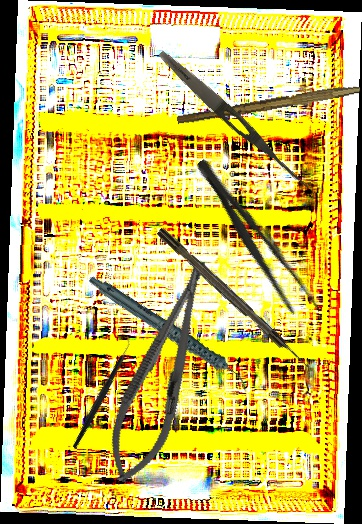Chopper: (40, 333, 162, 451)
Dressing Forceps: (186, 152, 325, 327), (154, 46, 314, 193)
Handpiece: (87, 247, 252, 419)
Hook Surgical: (156, 225, 311, 372)
Needle Holder: (94, 251, 230, 492)
Scalpel Handle: (176, 79, 361, 129)
